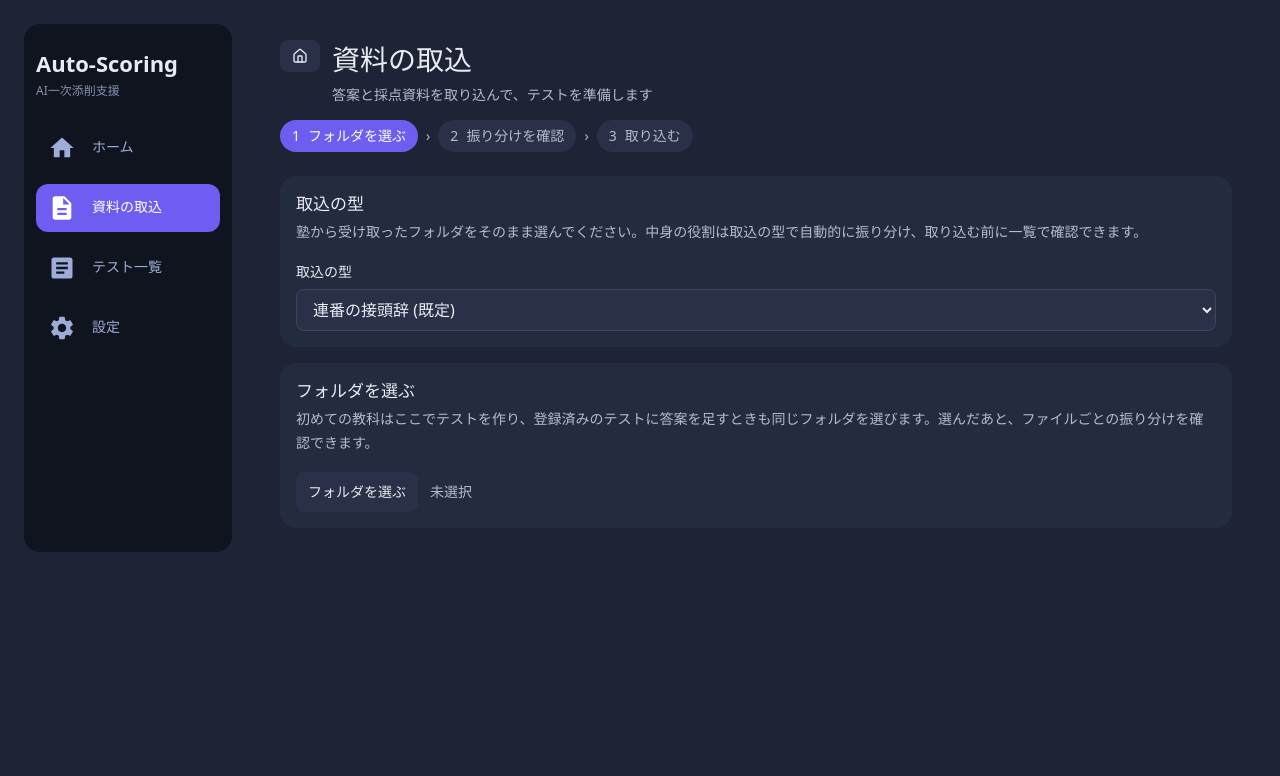
Test: Issue #384 (3): the intake selection survives leaving the screen › a failed import keeps the session so it can be retried
Expected: the dropdown with test id "intake-template-picker" is shown, [296,289,1216,331]
Click the button with test id "intake-choose-folder": (357, 492) [296,472,418,512]
(page scrolled)
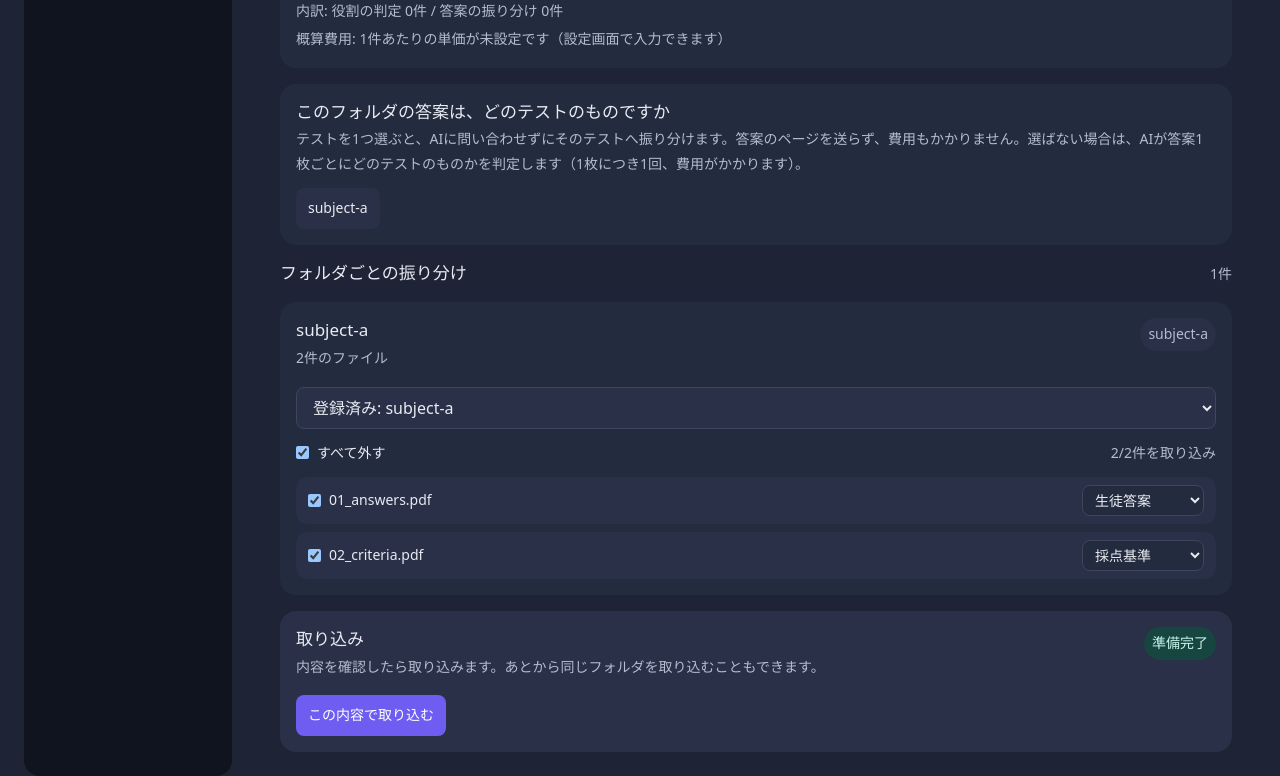
Click the button with test id "intake-import": (371, 716) [296,696,446,736]
(page scrolled)
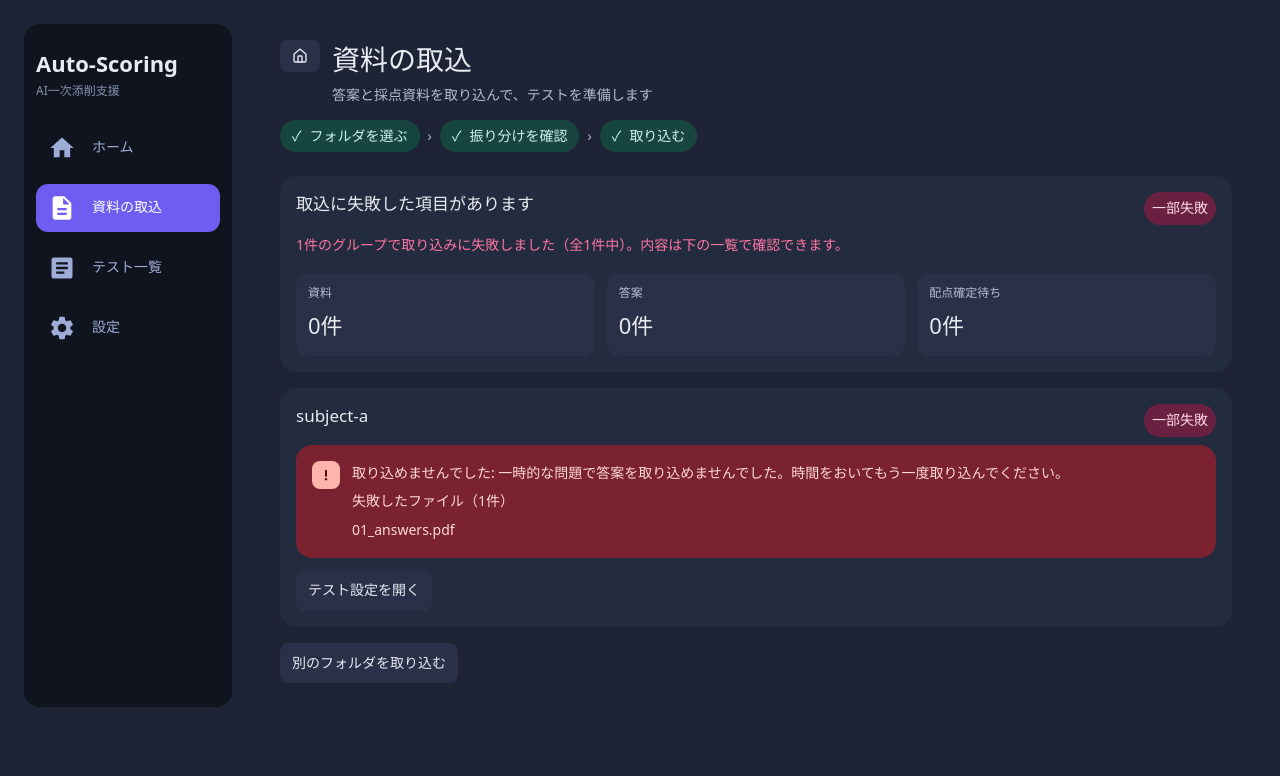
Expected: the heading "取込に失敗した項目があります" is shown, [296,192,534,215]
Click the button with test id "sidebar-nav-tests": (128, 268) [36,244,220,292]
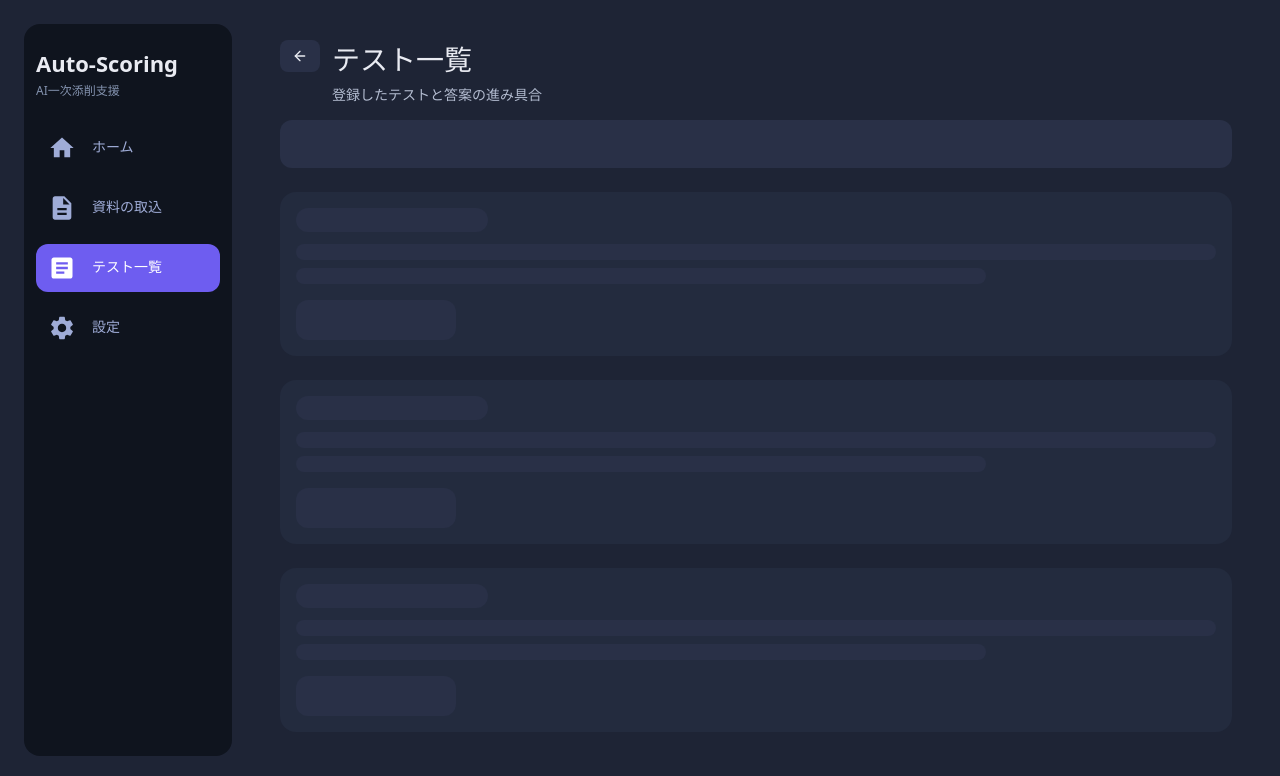
Expected: the heading "テスト一覧" is shown, [332,40,472,78]
Click the button with test id "sidebar-nav-intake": (128, 208) [36,184,220,232]
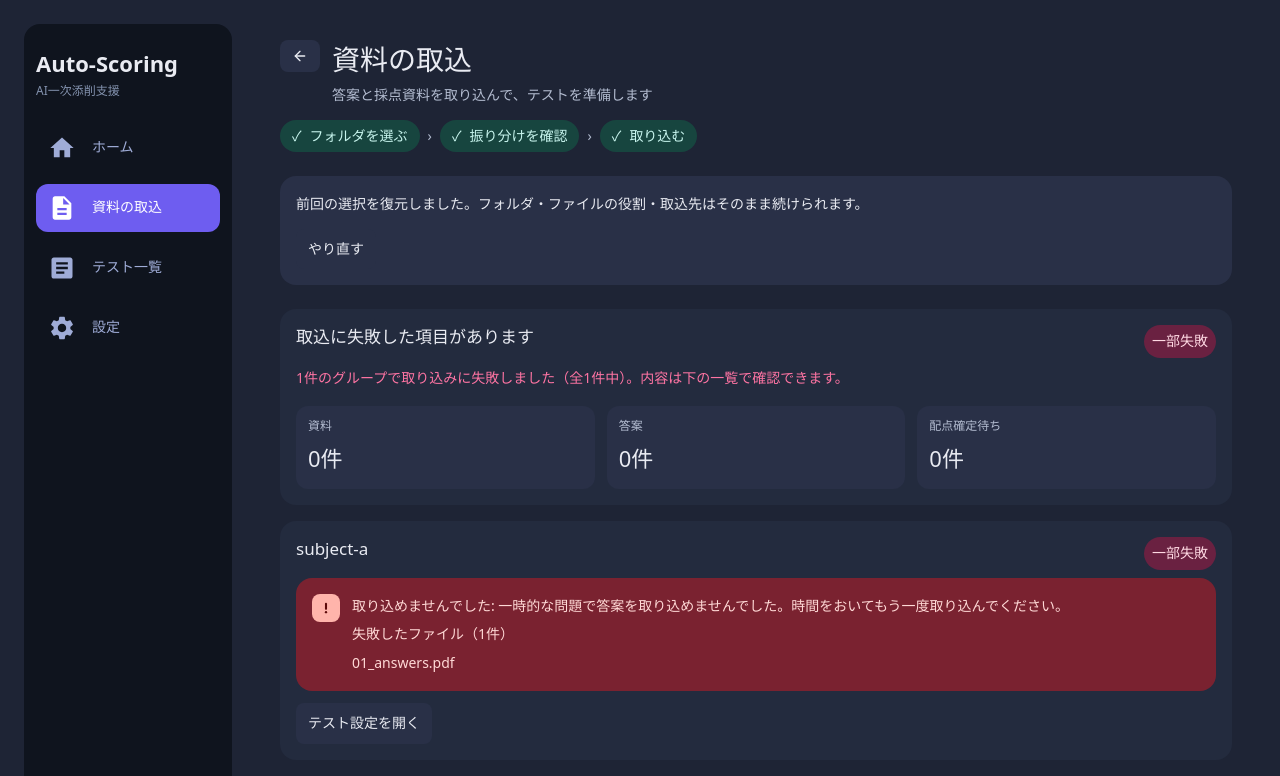
Expected: the element with test id "intake-restore-notice" is shown, [280,176,1232,285]
Expected: the heading "取込に失敗した項目があります" is shown, [296,325,534,348]
